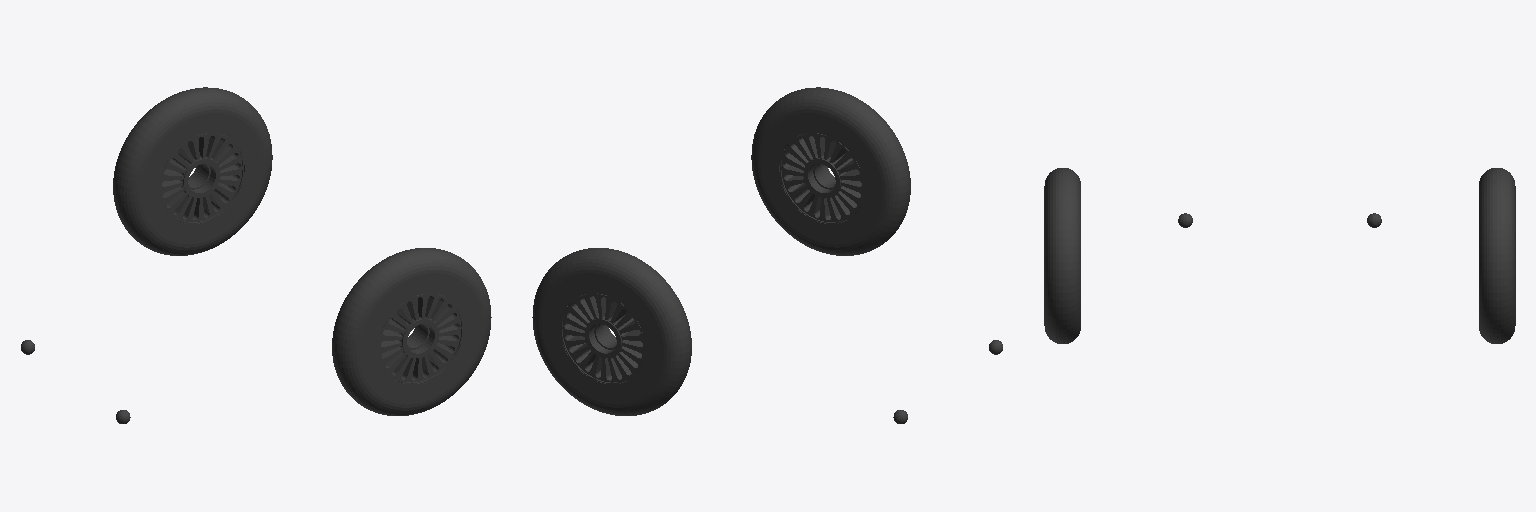
robot.urdf — turtlebot3_bigwheel_orin:
<?xml version="1.0" ?>
<robot name="turtlebot3_bigwheel_orin">

  <link name="base_footprint"/>

  <joint name="base_joint" type="fixed">
    <parent link="base_footprint"/>
    <child link="base_link" />
    <origin xyz="0 0 0.060" rpy="0 0 0"/>
  </joint>

  <link name="base_link">
    <visual>
      <origin xyz="0 0 0" rpy="0 0 0"/>
      <geometry>
        <mesh filename="../meshes/turtlebot3_bigwheel_orin/base.stl" scale="0.001 0.001 0.001"/>
      </geometry>
      <material name="light_black">
        <color rgba="0.1 0.1 0.1 1.0"/>
      </material>
    </visual>

    <collision>
      <origin xyz="-0.065 0 0.0225" rpy="0 0 0"/>
      <geometry>
        <box size="0.266 0.266 0.095"/>
      </geometry>
    </collision>

    <inertial>
      <origin xyz="0 0 0" rpy="0 0 0"/>
      <mass value="1.3729096e+00"/>
      <inertia ixx="8.7002718e-03" ixy="-4.7576583e-05" ixz="1.1160499e-04" iyy="8.6195418e-03" iyz="-3.5422299e-06" izz="1.4612727e-02" />
    </inertial>
  </link>

  <joint name="wheel_left_joint" type="continuous">
    <parent link="base_link"/>
    <child link="wheel_left_link"/>
    <origin xyz="0.0 0.147125 0.0" rpy="-1.57 0 0"/>
    <axis xyz="0 0 1"/>
    <limit velocity="8.063" effort="3.0"/>
    <dynamics damping="0.7" friction="1.0"/>
  </joint>

  <link name="wheel_left_link">
    <visual>
      <origin xyz="0 0 0" rpy="1.57 0 0"/>
      <geometry>
        <mesh filename="../meshes/turtlebot3_bigwheel_orin/tire.stl" scale="0.001 0.001 0.001"/>
      </geometry>
      <material name="dark">
        <color rgba="0.3 0.3 0.3 1.0"/>
      </material>
    </visual>

    <collision>
      <origin xyz="0 0 0" rpy="0 0 0"/>
      <geometry>
        <cylinder length="0.02425" radius="0.06"/>
      </geometry>
    </collision>

    <inertial>
      <origin xyz="0 0 0" />
      <mass value="2.8498940e-02" />
      <inertia ixx="1.1175580e-05" ixy="-4.2369783e-11" ixz="-5.9381719e-09" iyy="1.1192413e-05" iyz="-1.4400107e-11" izz="2.0712558e-05" />
    </inertial>
  </link>

  <joint name="wheel_right_joint" type="continuous">
    <parent link="base_link"/>
    <child link="wheel_right_link"/>
    <origin xyz="0.0 -0.147125 0.0" rpy="-1.57 0 0"/>
    <axis xyz="0 0 1"/>
    <limit velocity="8.063" effort="3.0"/>
  </joint>

  <link name="wheel_right_link">
    <visual>
      <origin xyz="0 0 0" rpy="1.57 0 0"/>
      <geometry>
        <mesh filename="../meshes/turtlebot3_bigwheel_orin/tire.stl" scale="0.001 0.001 0.001"/>
      </geometry>
      <material name="dark"/>
    </visual>

    <collision>
      <origin xyz="0 0 0" rpy="0 0 0"/>
      <geometry>
        <cylinder length="0.02425" radius="0.06"/>
      </geometry>
    </collision>

    <inertial>
      <origin xyz="0 0 0" />
      <mass value="2.8498940e-02" />
      <inertia ixx="1.1175580e-05" ixy="-4.2369783e-11" ixz="-5.9381719e-09" iyy="1.1192413e-05" iyz="-1.4400107e-11" izz="2.0712558e-05" />
    </inertial>
  </link>

  <joint name="caster_back_right_joint" type="fixed">
    <parent link="base_link"/>
    <child link="caster_back_right_link"/>
    <origin xyz="-0.176 -0.064 -0.0556125" rpy="-1.57 0 0"/>
  </joint>

  <link name="caster_back_right_link">
    <collision>
      <geometry>
        <box size="0.030 0.009 0.005"/>
      </geometry>
    </collision>
    <visual>
      <geometry>
        <sphere radius="0.005"/>
      </geometry>
      <material name="dark"/>
    </visual>
    <inertial>
      <origin xyz="0 0 0" />
      <mass value="0.005" />
      <inertia ixx="0.001" ixy="0.0" ixz="0.0" iyy="0.001" iyz="0.0" izz="0.001" />
    </inertial>
  </link>

  <joint name="caster_back_left_joint" type="fixed">
    <parent link="base_link"/>
    <child link="caster_back_left_link"/>
    <origin xyz="-0.176 0.064 -0.0556125" rpy="-1.57 0 0"/>
  </joint>

  <link name="caster_back_left_link">
    <collision>
      <geometry>
        <box size="0.030 0.009 0.005"/>
      </geometry>
    </collision>
    <visual>
      <geometry>
        <sphere radius="0.005"/>
      </geometry>
      <material name="dark"/>
    </visual>
    <inertial>
      <origin xyz="0 0 0" />
      <mass value="0.005" />
      <inertia ixx="0.001" ixy="0.0" ixz="0.0" iyy="0.001" iyz="0.0" izz="0.001" />
    </inertial>
  </link>

  <joint name="imu_joint" type="fixed">
    <parent link="base_link"/>
    <child link="imu_link"/>
    <origin xyz="0.0 0 0.033" rpy="0 0 0"/>
  </joint>

  <link name="imu_link"/>

  <joint name="scan_joint" type="fixed">
    <parent link="base_link"/>
    <child link="base_scan"/>
    <origin xyz="0.027 0 0.10045" rpy="0 0 0"/>
  </joint>

  <link name="base_scan">
    <visual>
      <origin xyz="0 0 0" rpy="0 0 0"/>
      <geometry>
        <mesh filename="../meshes/turtlebot3_bigwheel_orin/ladar.stl" scale="0.001 0.001 0.001"/>
      </geometry>
      <material name="dark"/>
    </visual>
    <collision>
      <origin xyz="0.0 0 -0.0111" rpy="0 0 0"/>
      <geometry>
        <cylinder length="0.0378" radius="0.025"/>
      </geometry>
    </collision>
    <inertial>
      <mass value="0.114" />
      <origin xyz="0 0 0" />
      <inertia ixx="0.001" ixy="0.0" ixz="0.0" iyy="0.001" iyz="0.0" izz="0.001" />
    </inertial>
  </link>

  <joint name="battery_joint" type="fixed">
    <parent link="base_link"/>
    <child link="battery_link"/>
    <origin xyz="-0.08 0 0" rpy="0 0 0"/>
  </joint>

  <link name="battery_link">
    <inertial>
      <mass value="1.5" />
      <origin xyz="0 0 0" />
      <inertia ixx="0.001" ixy="0.0" ixz="0.0" iyy="0.001" iyz="0.0" izz="0.001" />
    </inertial>
  </link>

</robot>

--- Facts derived from the render (not from the file) ---
Views: 3 orthographic renders of the robot side by side, from view 1: azimuth 30°, elevation 25°; view 2: azimuth 150°, elevation 25°; view 3: azimuth 270°, elevation 25°.
Model turtlebot3_bigwheel_orin with 9 links and 8 joints (2 continuous, 6 fixed), rooted at base_footprint, posed every joint at zero.
Visible links, largest first — view 1: wheel_left_link, wheel_right_link; view 2: wheel_right_link, wheel_left_link; view 3: wheel_left_link, wheel_right_link.
Link boxes in pixels (bbox=[...]): wheel_left_link: bbox=[113, 87, 272, 255]; wheel_right_link: bbox=[332, 248, 491, 415]; wheel_right_link: bbox=[751, 87, 910, 255]; wheel_left_link: bbox=[532, 248, 691, 415]; wheel_left_link: bbox=[1479, 168, 1515, 343]; wheel_right_link: bbox=[1044, 168, 1080, 343].
Size in the robot's own frame: 0.241 by 0.3192 by 0.1206 metres.
Meshes: 3 distinct files referenced, 2 mesh visuals loaded (1 binary STL); not drawn: 2 (reference not matched to a file when rendering).